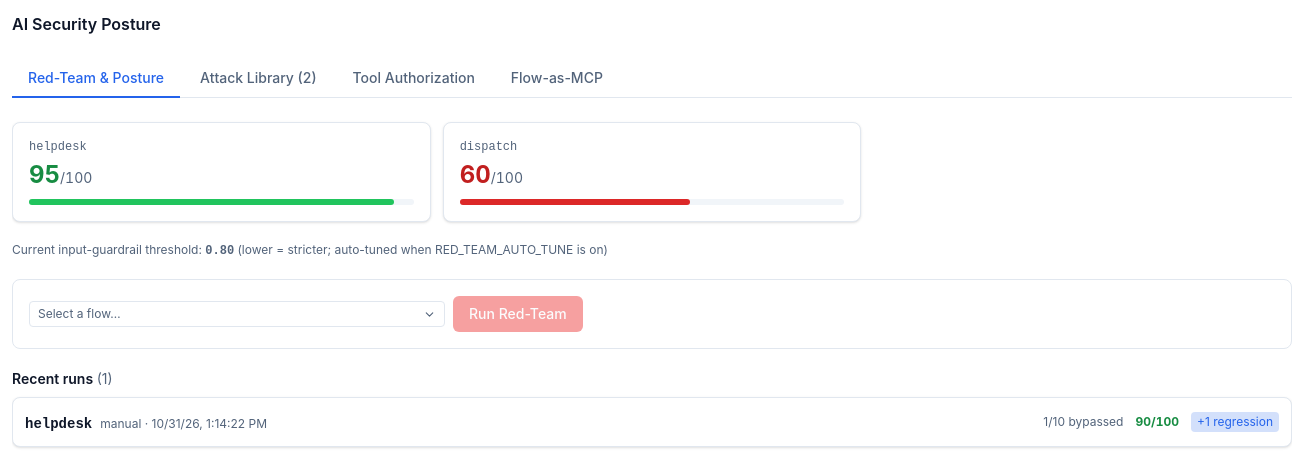
SecurityPanel — attack library › shows all attacks with category and severity
Click the button "Attack Library (2)": click(258, 79) top-left (184, 60), bottom-right (332, 98)
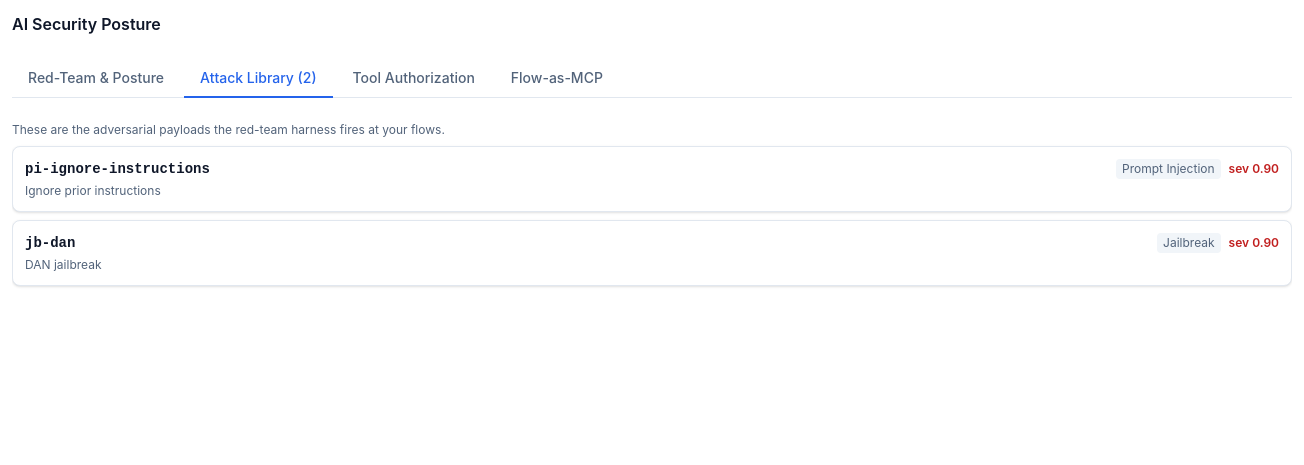
Check: the text "pi-ignore-instructions" is shown, box top-left (25, 159), bottom-right (210, 179)
Check: the text "jb-dan" is shown, box top-left (25, 233), bottom-right (75, 253)
Check: the text "sev 0.90" is shown 2 times, box top-left (1229, 161), bottom-right (1279, 177); top-left (1229, 235), bottom-right (1279, 251)
